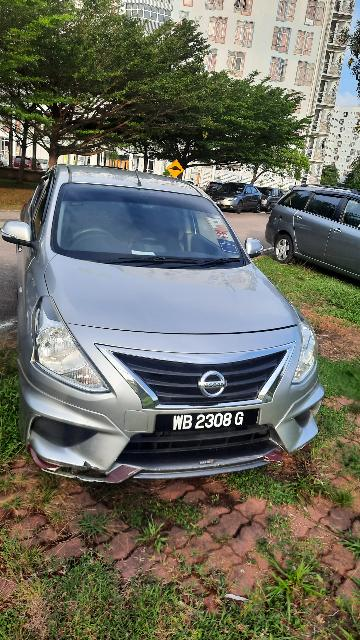License_Plate: (150, 408, 265, 439)
car: (4, 164, 329, 488)
